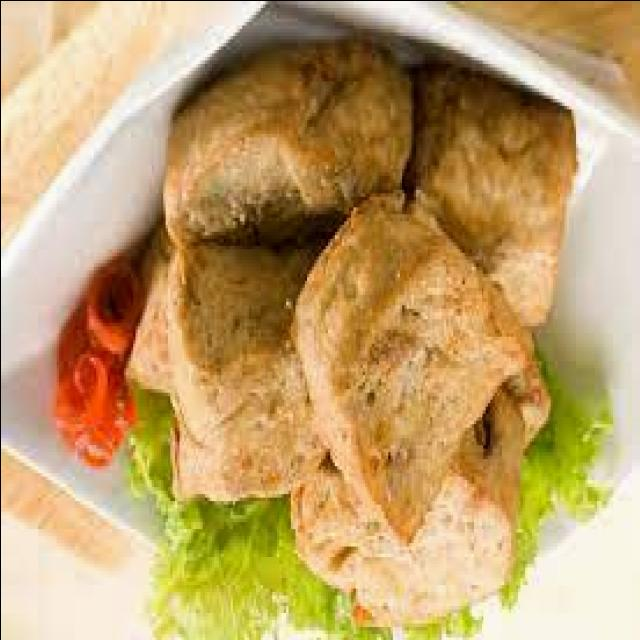tahu goreng: (292, 189, 531, 542), (172, 241, 325, 497)
